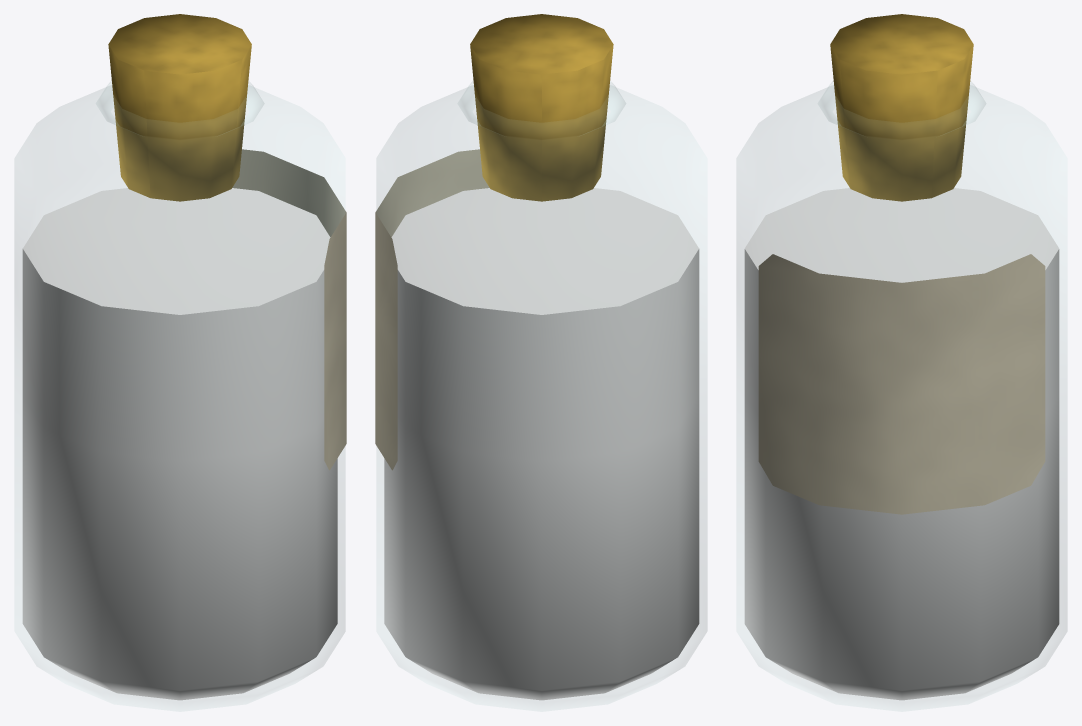
File: cylindrical-no_neck.glb
The picture shows the model from 3 angles, left to right: view 1: azimuth 30°, elevation 25°; view 2: azimuth 150°, elevation 25°; view 3: azimuth 270°, elevation 25°; orthographic projection.
Parts seen in each view (by area): view 1: liquid-cylindrical-no_neck, cylindrical-no_neck, cork-cylindrical-no_neck, tag-cylindrical-no_neck; view 2: liquid-cylindrical-no_neck, cylindrical-no_neck, cork-cylindrical-no_neck, tag-cylindrical-no_neck; view 3: liquid-cylindrical-no_neck, tag-cylindrical-no_neck, cylindrical-no_neck, cork-cylindrical-no_neck.
Part boxes in pixels (x1,y1,x2,y2): liquid-cylindrical-no_neck: [22, 188, 337, 700]; cylindrical-no_neck: [15, 81, 344, 711]; cork-cylindrical-no_neck: [108, 14, 251, 201]; tag-cylindrical-no_neck: [232, 149, 346, 470]; liquid-cylindrical-no_neck: [384, 188, 699, 700]; cylindrical-no_neck: [377, 81, 706, 711]; cork-cylindrical-no_neck: [470, 14, 613, 201]; tag-cylindrical-no_neck: [375, 149, 489, 470]; liquid-cylindrical-no_neck: [744, 188, 1059, 700]; tag-cylindrical-no_neck: [758, 254, 1045, 514]; cylindrical-no_neck: [737, 82, 1066, 711]; cork-cylindrical-no_neck: [830, 14, 973, 201].
Bounding box in the file's own units: 0.0342 × 0.0694 × 0.0341.
3 materials, 2 textured.
